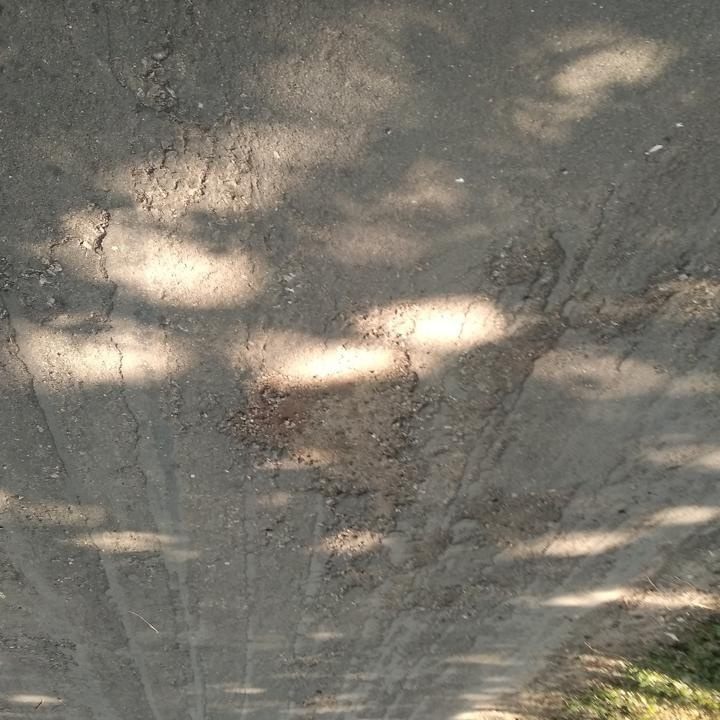pothole: (212, 321, 423, 515)
